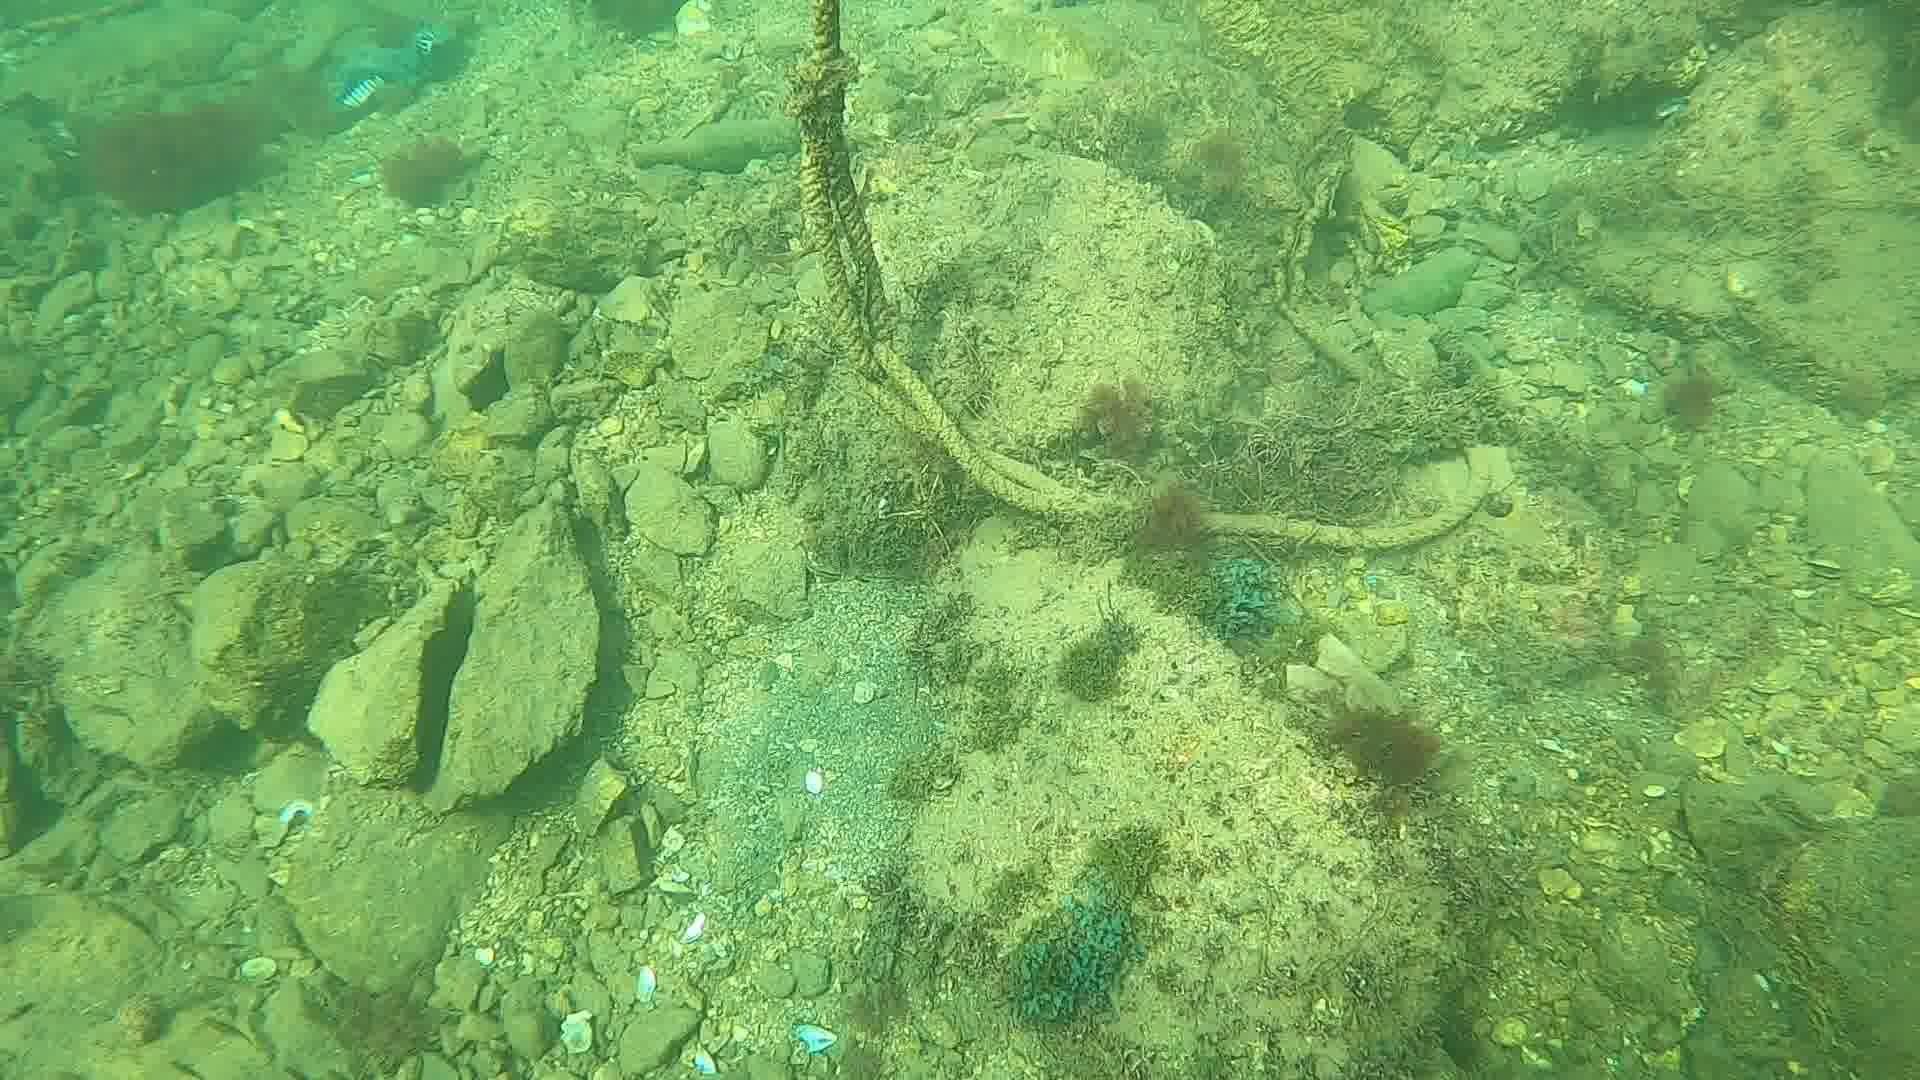bundle of ropes: (790, 1, 1491, 553)
